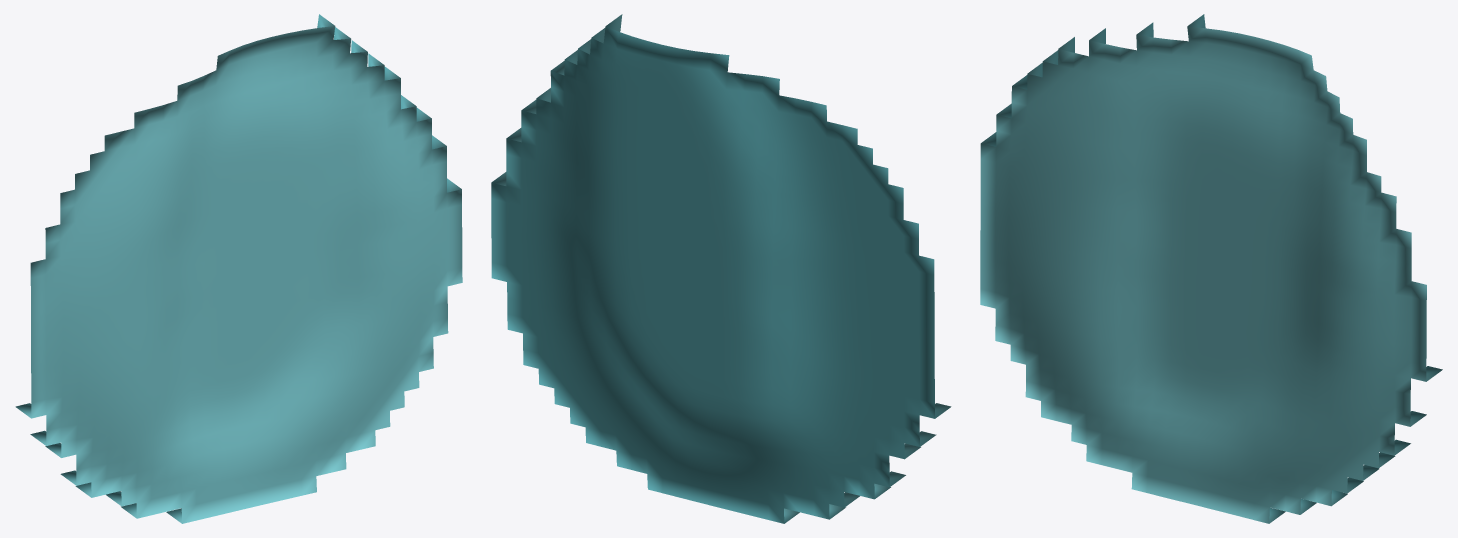
Rendered from PAIR-OFFLOAD-4TH_LEFT_addon.glb.
3 views of the same model, side by side, from view 1: azimuth 30°, elevation 25°; view 2: azimuth 150°, elevation 25°; view 3: azimuth 330°, elevation 25° (orthographic). The views are drawn at different scales.
Parts seen in each view (by area): view 1: world; view 2: world; view 3: world.
Boxes of the visible parts, bbox=[...] form: world: bbox=[15, 14, 462, 523]; world: bbox=[491, 14, 951, 523]; world: bbox=[980, 14, 1442, 523].
Bounding box in the file's own units: 29 × 29 × 4.1.
